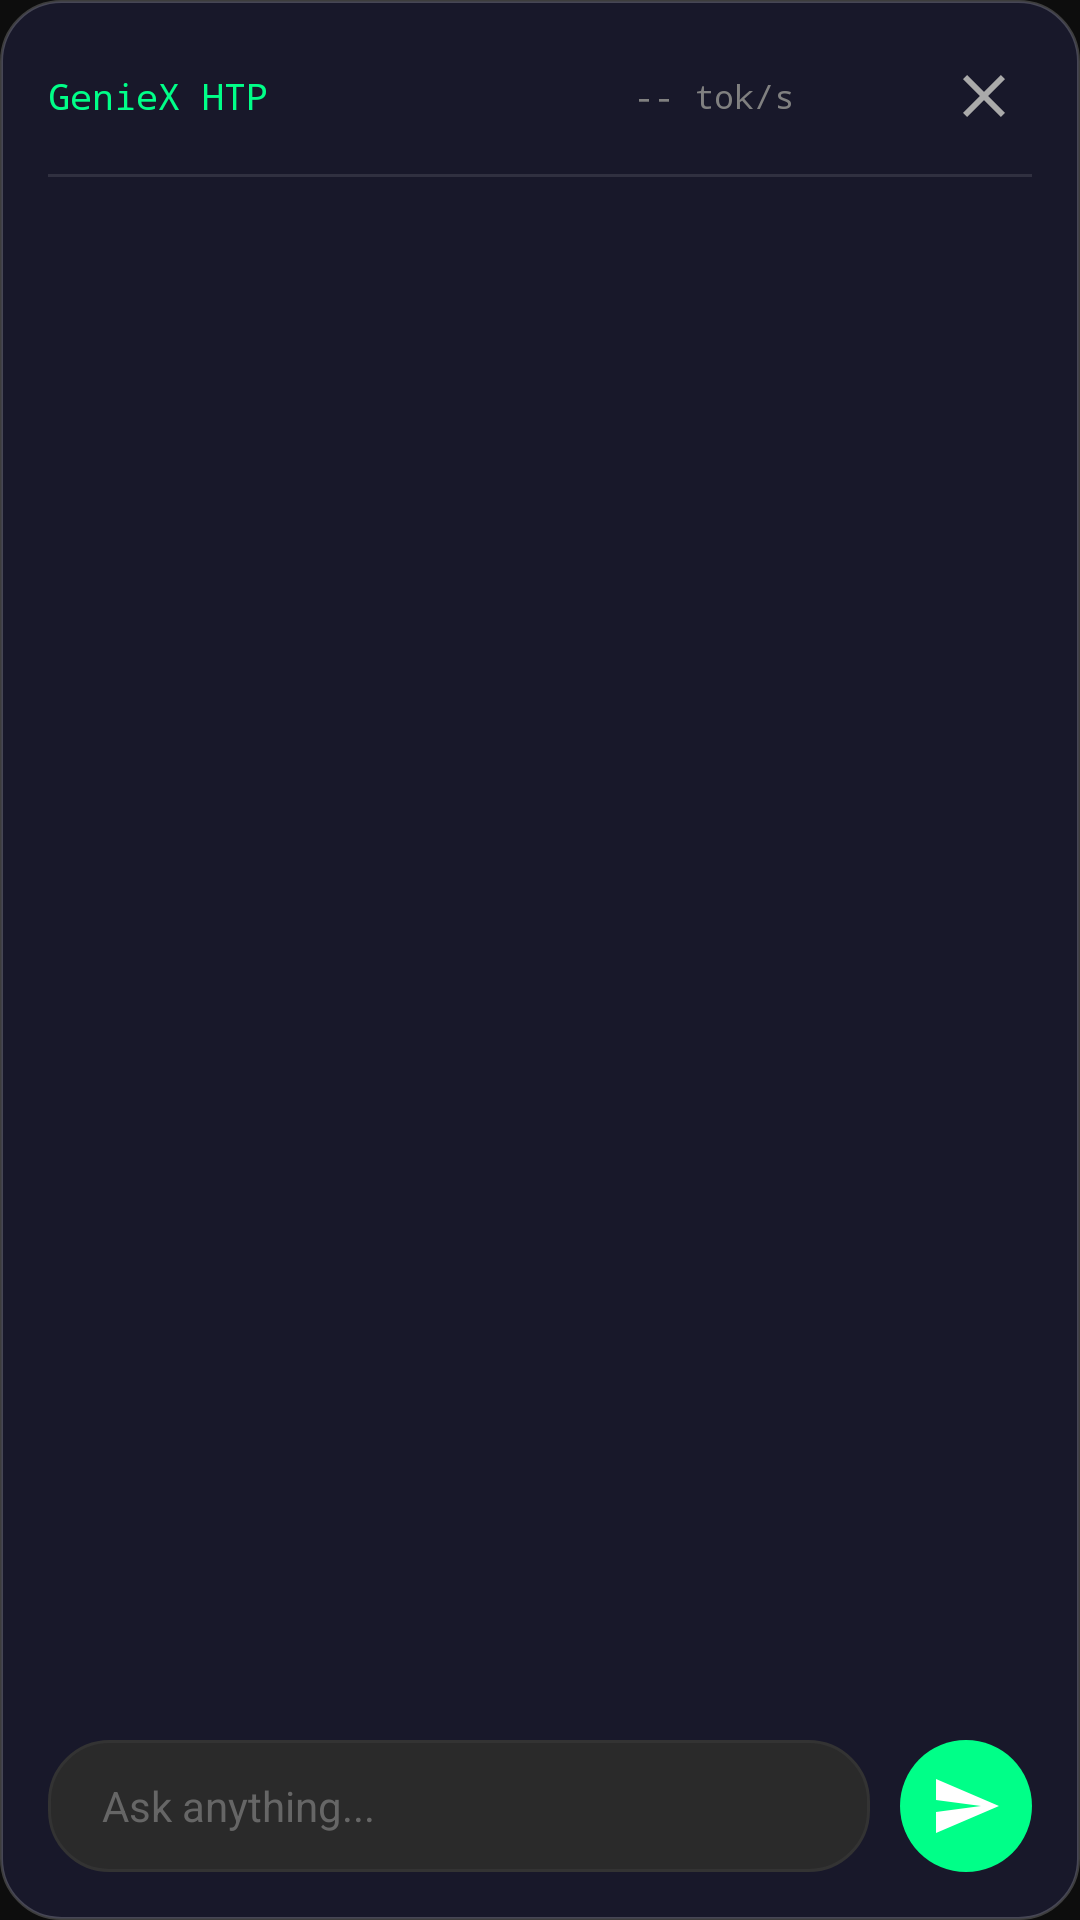

Icons on this 1080*1920 Android screen, each with its box as box=[x1, y1, x2, y2]:
Close: box=[963, 75, 1005, 117]
Send: box=[900, 1740, 1032, 1872]
